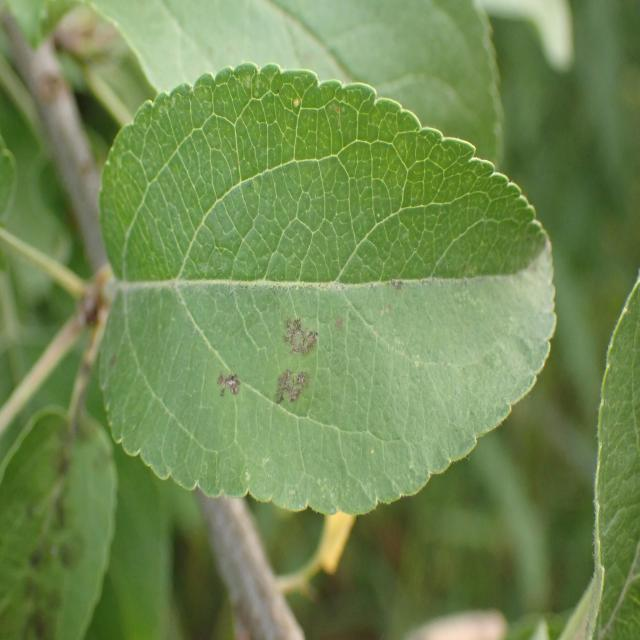scab: (130, 98, 560, 458), (10, 369, 117, 640)
